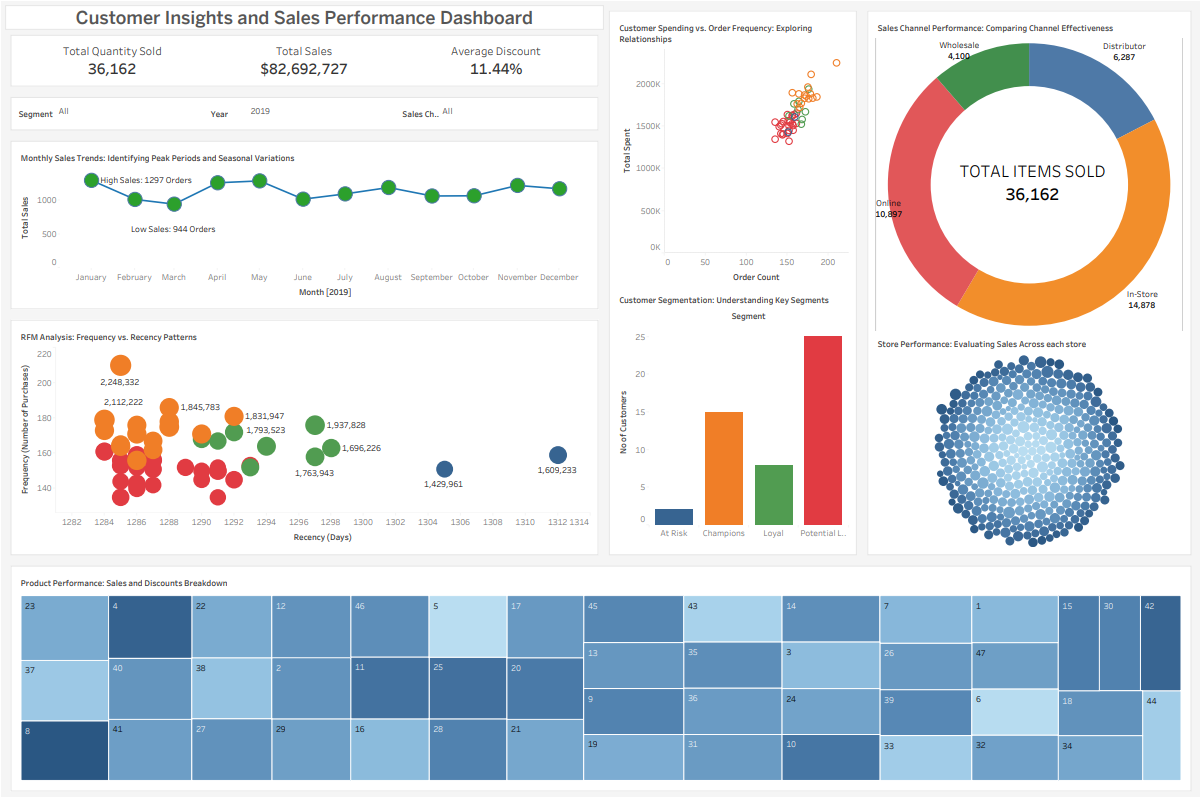

What the dashboard file says about the page in this screenshot:
{"tool":"tableau","page":{"name":"Dashboard 1","canvas":[2220,1480],"ordinal":0},"visuals":[{"type":"text","box":[8,8,1107,45.1]},{"type":"worksheet","title":"Customer Spending vs. Order Frequency","mark":"Automatic","rows":["total_spent"],"cols":["order_count"],"box":[1136,29,436.1,504.5]},{"type":"worksheet","title":"Sales Channel Performance: Number of Items Sold","mark":"Pie","cols":["Calculation_7881339535814659","Calculation_7881339535814659"],"box":[1614,29,577,586]},{"type":"worksheet","title":"Sheet 8 (2)","mark":"Automatic","box":[29,74,355,73]},{"type":"worksheet","title":"Sheet 8","mark":"Automatic","box":[384,74,355,73]},{"type":"worksheet","title":"Sheet 8 (3)","mark":"Automatic","box":[739,74,355,73]},{"type":"filter","title":"Number of Customers in Each RFM Segment","param":"[federated.0x20e5u1ytcxsn1b2ds2q0nb30p3].[none:Segment:nk]","box":[29,189,355,39]},{"type":"filter","title":"Sales Performance Line Chart","param":"[federated.01mjwlm0zq3ije1g2wm3c115lya3].[yr:month:ok]","box":[384,189,355,39]},{"type":"filter","title":"Sales Channel Performance: Number of Items Sold","param":"[federated.1ns7zx21mpzndr1erkqsq0mdfhvl].[none:SalesChannel:nk]","box":[739,189,355,39]},{"type":"worksheet","title":"Sales Performance Line Chart","mark":"Automatic","rows":["total_sales","total_sales"],"cols":["month"],"box":[29,269.8,1065,289.6]},{"type":"worksheet","title":"Number of Customers in Each RFM Segment","mark":"Automatic","rows":["CustomerID (rfm_cluster.csv)"],"cols":["Segment"],"box":[1136,533.5,436.1,480.5]},{"type":"worksheet","title":"Purchase Frequency vs. Recency, Sized by Monetary Value","mark":"Automatic","rows":["frequency"],"cols":["recency"],"box":[29,601,1065,413]},{"type":"worksheet","title":"Store Performance: Number of Items Sold","mark":"Circle","box":[1614,615,577,398.9]},{"type":"worksheet","title":"Product Performance: Total Quantity Sold and Average Discount","mark":"Automatic","box":[29,1056,2162.1,395]}]}

Visuals, with their boxes in screenshot pixels (x1, y1, x2, y2), scaled from the page's 2220x1480 canvas onto the 1202x797 screenshot:
text: locate(4, 4, 604, 29)
"Customer Spending vs. Order Frequency" worksheet: locate(615, 16, 851, 287)
"Sales Channel Performance: Number of Items Sold" worksheet (Pie marks): locate(874, 16, 1186, 331)
"Sheet 8 (2)" worksheet: locate(16, 40, 208, 79)
"Sheet 8" worksheet: locate(208, 40, 400, 79)
"Sheet 8 (3)" worksheet: locate(400, 40, 592, 79)
"Number of Customers in Each RFM Segment" filter: locate(16, 102, 208, 123)
"Sales Performance Line Chart" filter: locate(208, 102, 400, 123)
"Sales Channel Performance: Number of Items Sold" filter: locate(400, 102, 592, 123)
"Sales Performance Line Chart" worksheet: locate(16, 145, 592, 301)
"Number of Customers in Each RFM Segment" worksheet: locate(615, 287, 851, 546)
"Purchase Frequency vs. Recency, Sized by Monetary Value" worksheet: locate(16, 324, 592, 546)
"Store Performance: Number of Items Sold" worksheet (Circle marks): locate(874, 331, 1186, 546)
"Product Performance: Total Quantity Sold and Average Discount" worksheet: locate(16, 569, 1186, 781)
